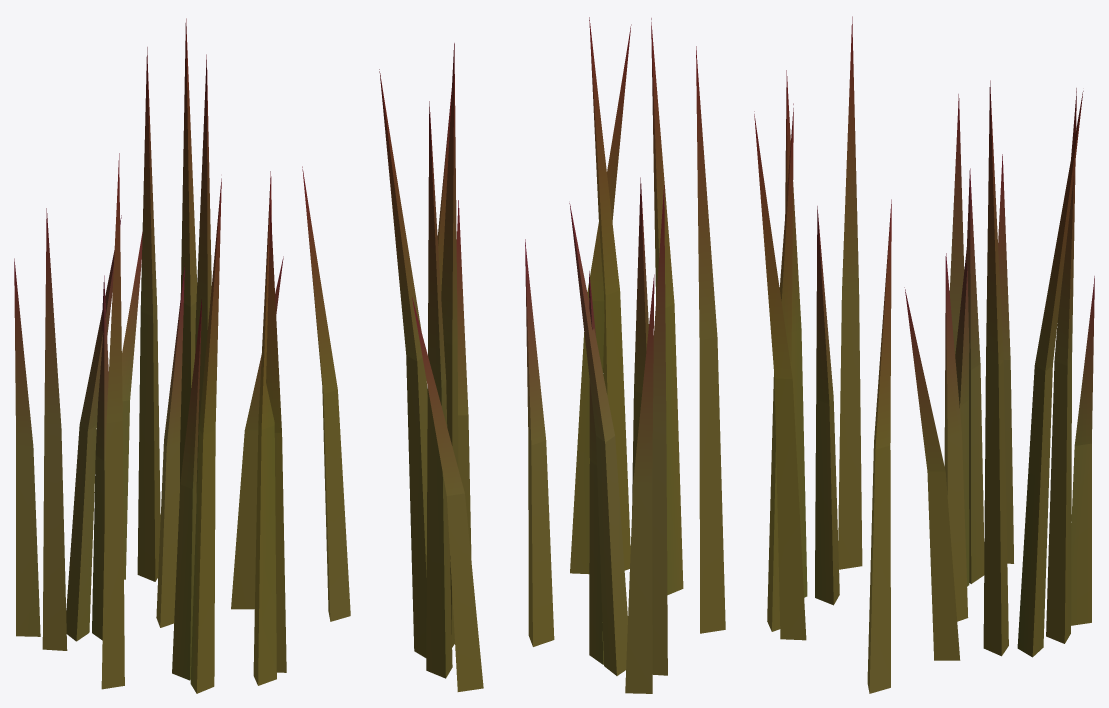
Rendered from Reeds_01.glb.
3 views of the same model, side by side, from view 1: azimuth 30°, elevation 25°; view 2: azimuth 150°, elevation 25°; view 3: azimuth 270°, elevation 25° (orthographic). The views are drawn at different scales.
Visible parts, largest first — view 1: Reeds_01; view 2: Reeds_01; view 3: Reeds_01.
Part boxes in pixels (bbox=[...]): Reeds_01: bbox=[14, 18, 350, 693]; Reeds_01: bbox=[379, 17, 725, 693]; Reeds_01: bbox=[754, 16, 1094, 693].
Size of the model in its own units: 0.6637 by 1.26 by 0.679.
